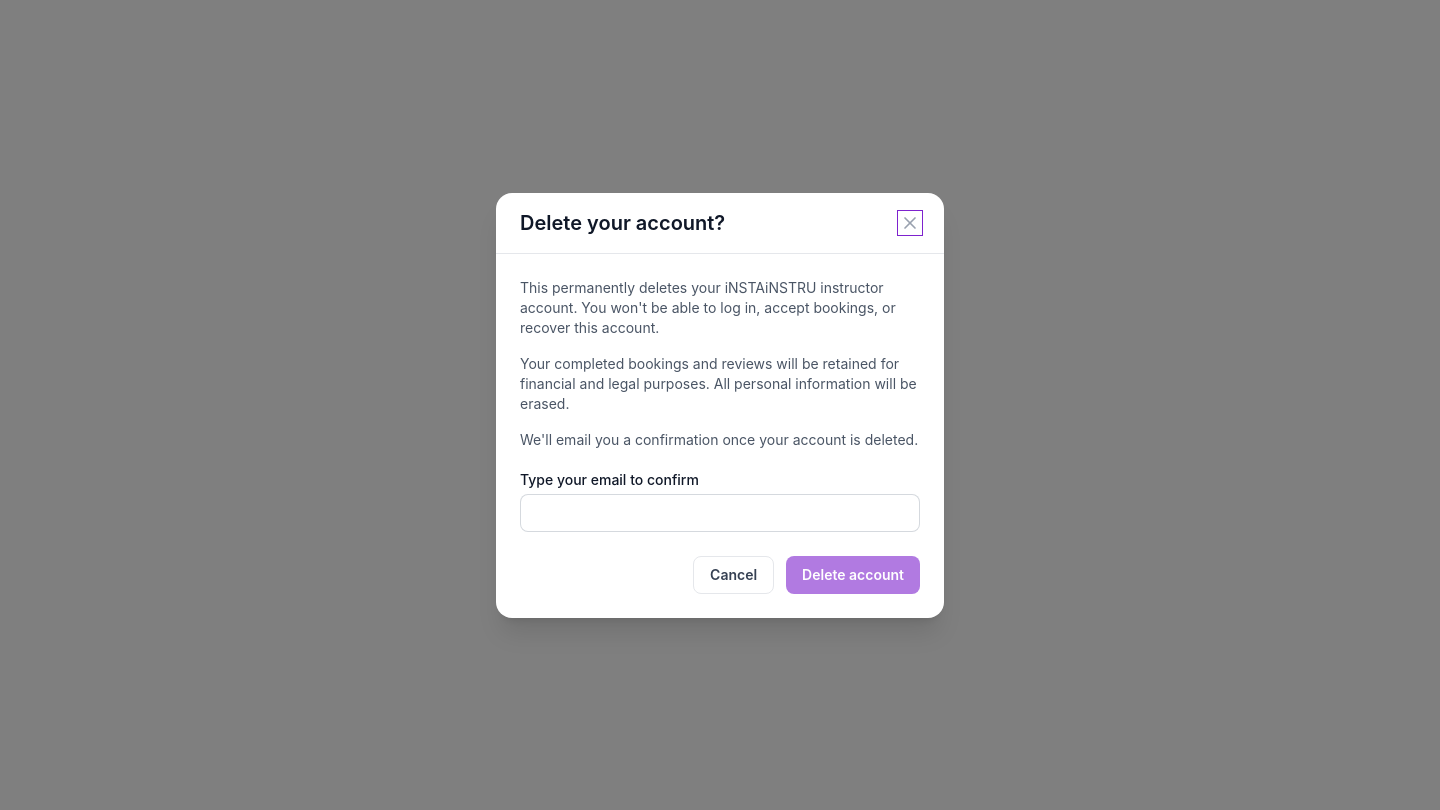
Test: DeleteAccountModal › disables delete until the typed email matches case-insensitively
Expected: the button "Delete account" is disabled, x1=786 y1=556 x2=920 y2=594
Type "wrong@example.com" into the field labelled "Type your email to confirm".
click(720, 512); type("wrong@example.com")  # box x1=520 y1=494 x2=920 y2=532
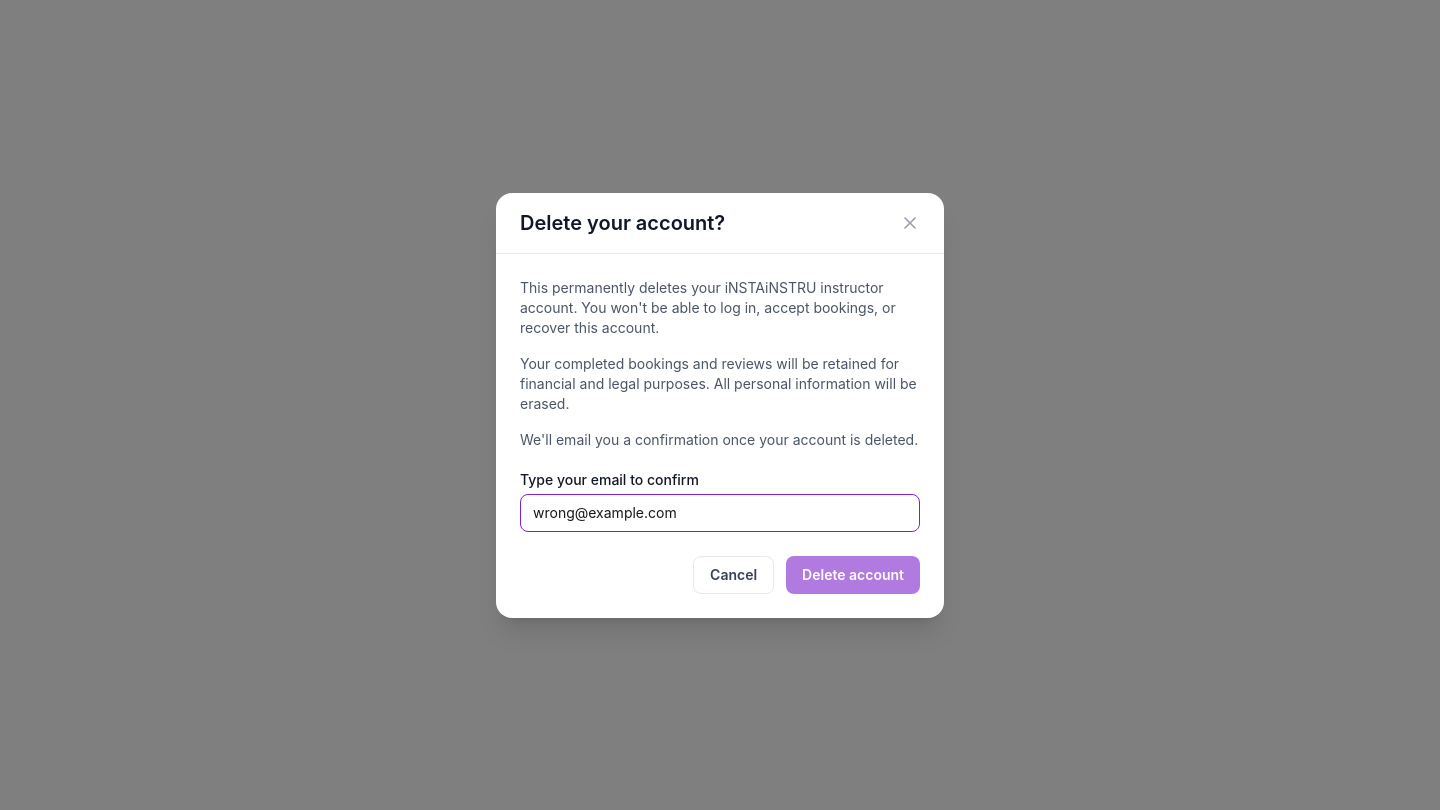
Expected: the button "Delete account" is disabled, x1=786 y1=556 x2=920 y2=594
Replace the text in the field labelled "Type your email to confirm" with "  user@example.com  " at (720, 512), box x1=520 y1=494 x2=920 y2=532
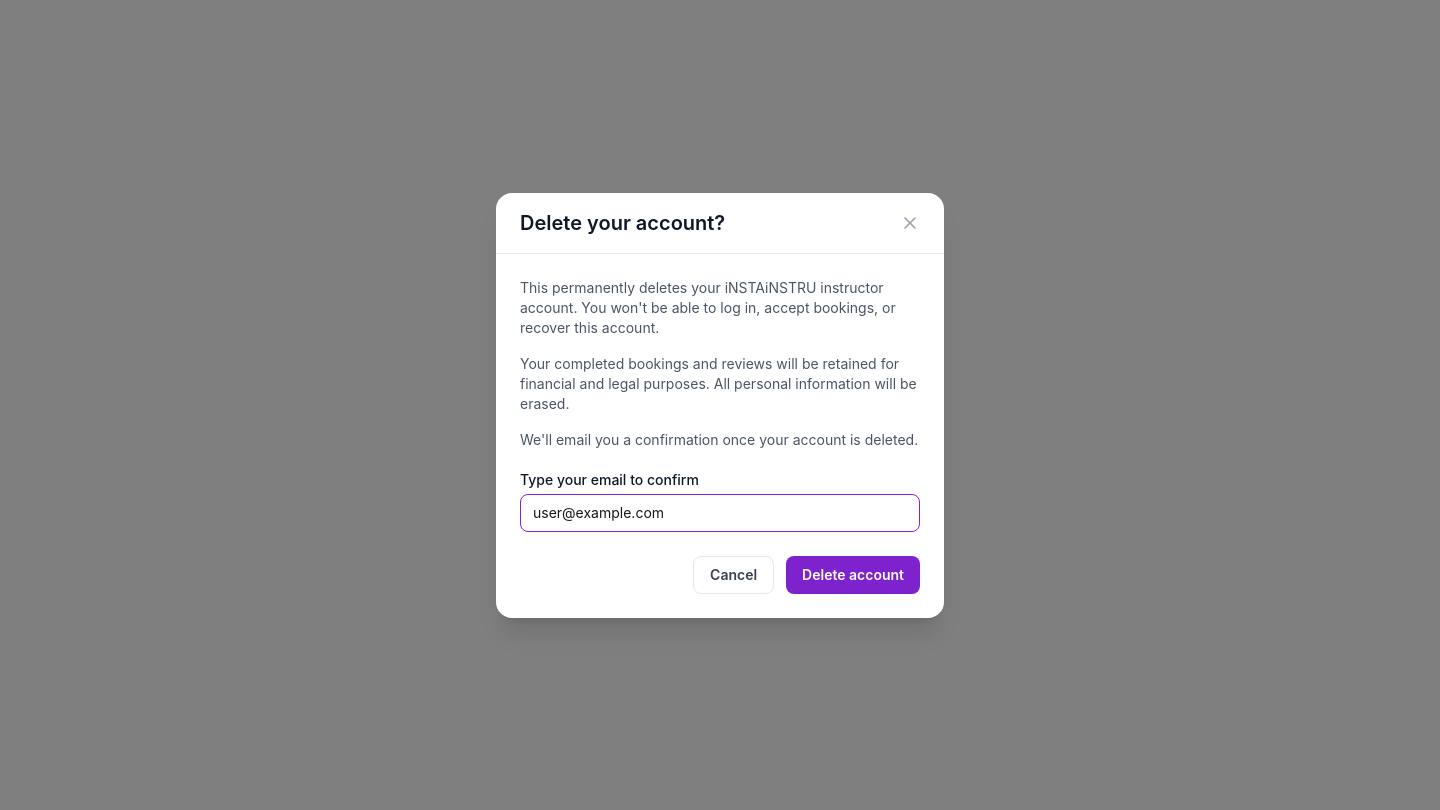
Now the button "Delete account" is enabled, box x1=786 y1=556 x2=920 y2=594
